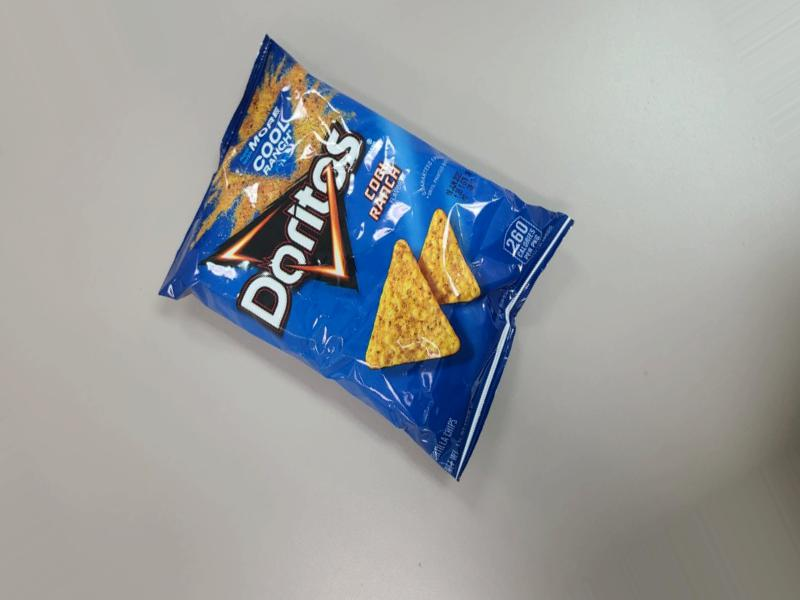doritos: (227, 18, 520, 484)
